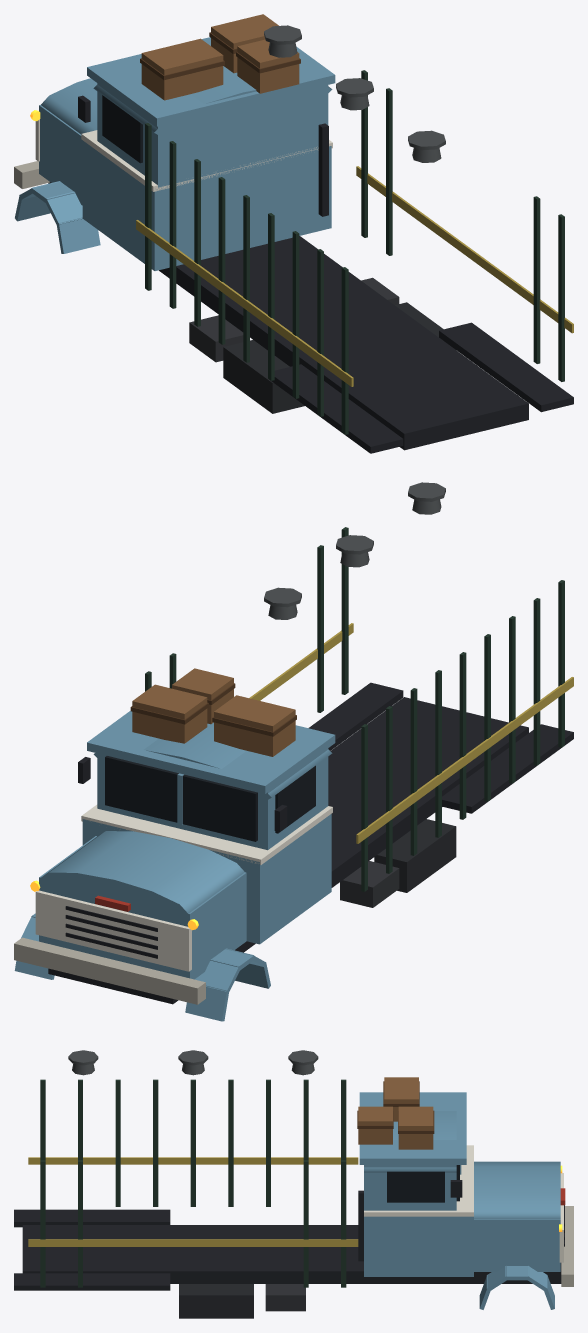
The model's file is truck.glb.
3 renders of one model, top to bottom at view 1: azimuth 30°, elevation 25°; view 2: azimuth 150°, elevation 25°; view 3: azimuth 270°, elevation 25°, orthographic. The views are drawn at different scales.
Parts seen in each view (by area): view 1: #6f9cb4, #22242a, #263c31_noshadow, #8a6440, #b9a24a_noshadow, #2a2c30, #4c5052, #34363a, #1a2026 rough 0.2, #e8e4d8_noshadow, #5a3e26, #b8b4a8 metal 0.4 rough 0.5; view 2: #6f9cb4, #22242a, #263c31_noshadow, #1a2026 rough 0.2, #8a6440, #e8e4d8, #b8b4a8 metal 0.4 rough 0.5, #b9a24a_noshadow, #e8e4d8_noshadow, #2a2c30, #4c5052, #34363a (+2 smaller); view 3: #6f9cb4, #22242a, #263c31_noshadow, #b9a24a_noshadow, #8a6440, #2a2c30, #1a2026 rough 0.2, #4c5052, #e8e4d8_noshadow, #34363a, #b8b4a8 metal 0.4 rough 0.5, #5a3e26.
Part boxes in pixels (x1,y1,x2,y2): #6f9cb4: [15, 37, 335, 270]; #22242a: [48, 95, 573, 453]; #263c31_noshadow: [145, 70, 564, 434]; #8a6440: [141, 14, 299, 100]; #b9a24a_noshadow: [136, 166, 573, 386]; #2a2c30: [223, 302, 455, 413]; #4c5052: [264, 25, 445, 162]; #34363a: [189, 277, 399, 362]; #1a2026 rough 0.2: [102, 95, 142, 163]; #e8e4d8_noshadow: [81, 130, 332, 191]; #5a3e26: [140, 32, 300, 80]; #b8b4a8 metal 0.4 rough 0.5: [14, 161, 49, 188]; #6f9cb4: [14, 711, 335, 1021]; #22242a: [48, 682, 573, 1004]; #263c31_noshadow: [145, 527, 564, 891]; #1a2026 rough 0.2: [105, 756, 315, 841]; #8a6440: [132, 668, 295, 756]; #e8e4d8: [35, 890, 191, 971]; #b8b4a8 metal 0.4 rough 0.5: [14, 937, 205, 1004]; #b9a24a_noshadow: [249, 623, 573, 843]; #e8e4d8_noshadow: [81, 804, 332, 864]; #2a2c30: [374, 819, 456, 892]; #4c5052: [264, 482, 445, 619]; #34363a: [340, 861, 399, 907]; #6f9cb4: [359, 1092, 560, 1309]; #22242a: [14, 1180, 561, 1290]; #263c31_noshadow: [40, 1079, 346, 1287]; #b9a24a_noshadow: [28, 1157, 358, 1246]; #8a6440: [358, 1077, 433, 1149]; #2a2c30: [179, 1284, 253, 1318]; #1a2026 rough 0.2: [387, 1165, 459, 1202]; #4c5052: [68, 1050, 318, 1075]; #e8e4d8_noshadow: [364, 1145, 473, 1216]; #34363a: [265, 1284, 305, 1311]; #b8b4a8 metal 0.4 rough 0.5: [561, 1206, 573, 1286]; #5a3e26: [357, 1081, 434, 1133].
Bounding box in the file's own units: 3.39 × 4.35 × 9.68.
